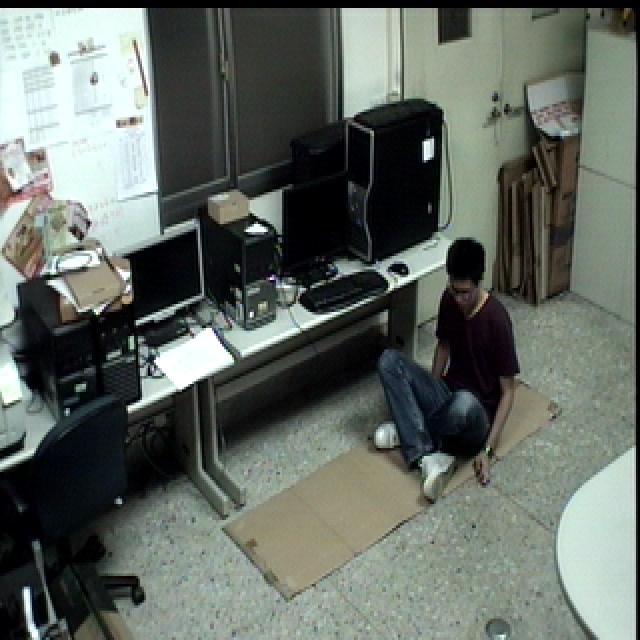sit: (367, 234, 532, 512)
